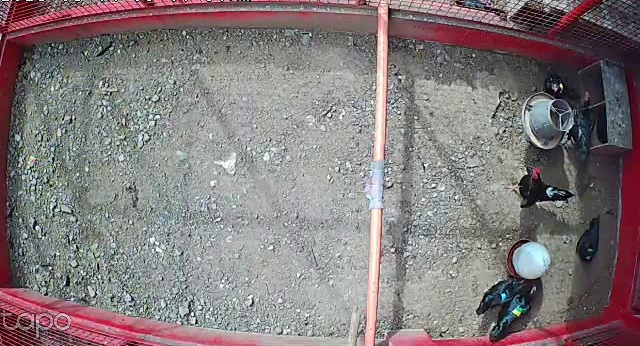Chicken: (556, 92, 603, 171), (487, 285, 541, 339), (476, 275, 529, 317), (574, 212, 602, 264), (546, 74, 584, 105)
Rooster: (503, 162, 576, 211)
Saddle_Color_Blue: (501, 292, 507, 301)
Saddle_Color_Yellow: (559, 84, 564, 92)
Saddle_Color_YellowGreen: (513, 304, 524, 316)
